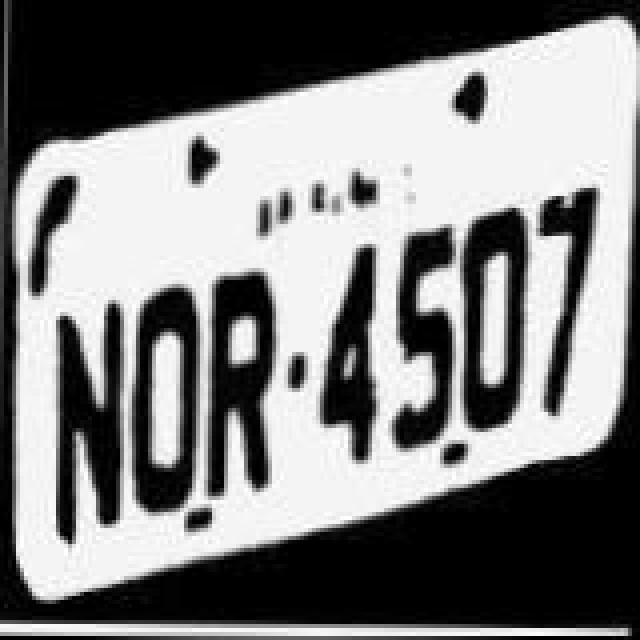4: (318, 240, 390, 492)
5: (384, 226, 460, 462)
7: (532, 176, 600, 432)
N: (42, 284, 126, 556)
O: (126, 262, 202, 518), (456, 200, 532, 436)
R: (202, 266, 286, 510)
